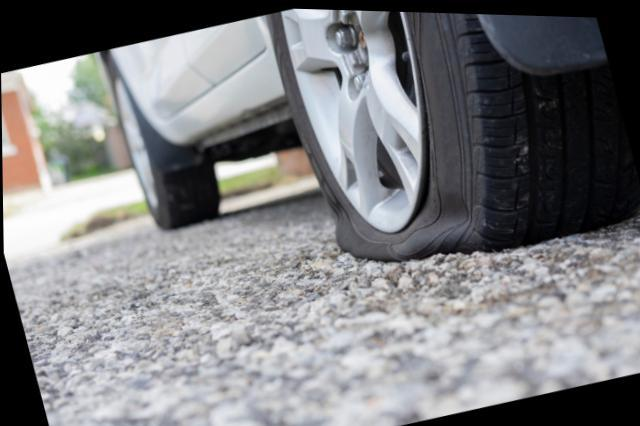tire flat: (265, 7, 640, 262)
